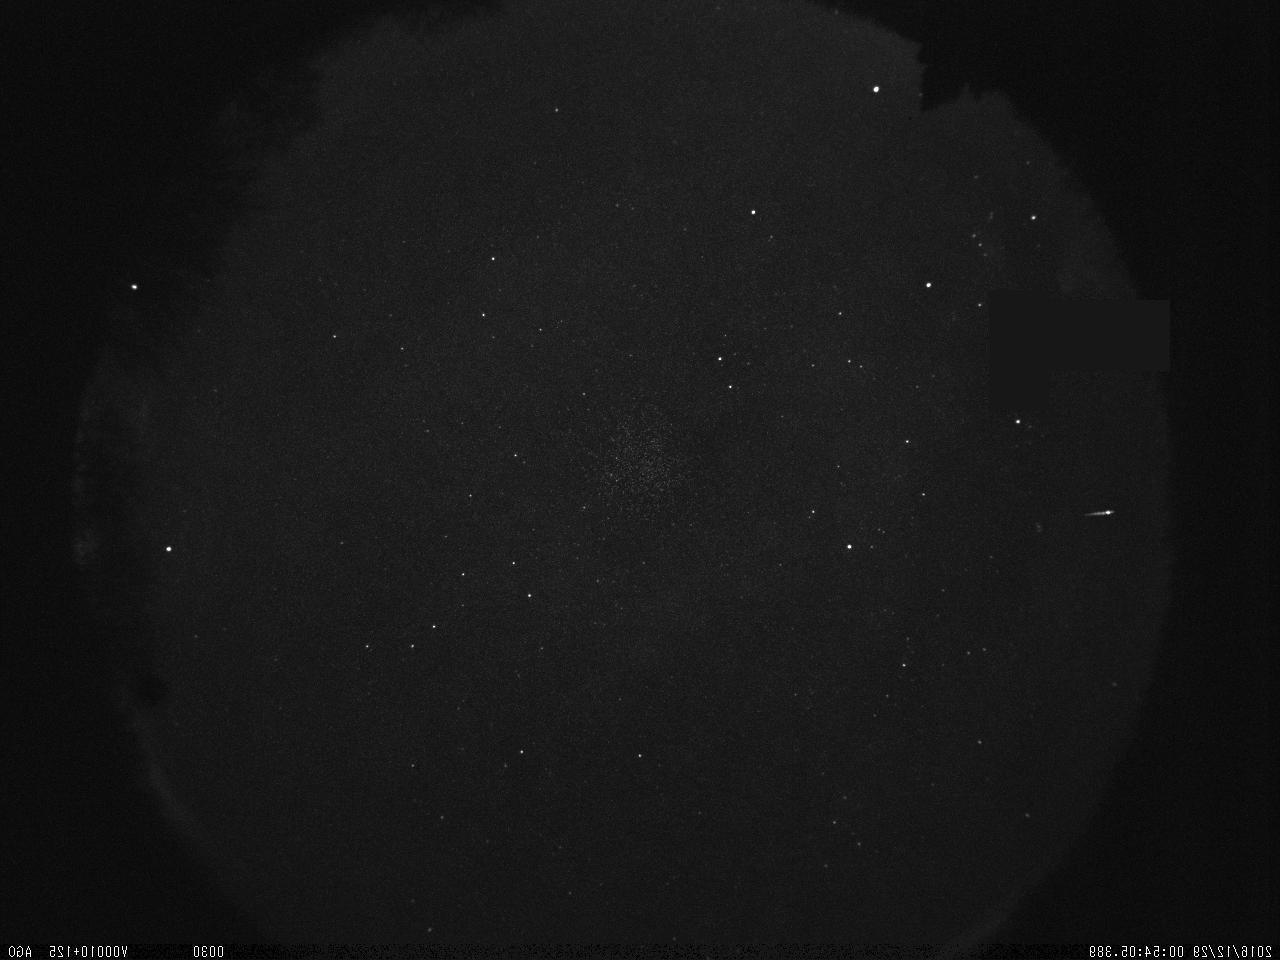meteor: (1068, 493, 1126, 537)
